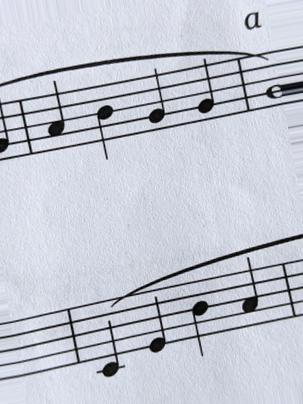note: (93, 298, 132, 380), (92, 84, 119, 167), (188, 57, 220, 126), (187, 280, 213, 364), (140, 66, 172, 134), (236, 258, 262, 334), (44, 81, 71, 153), (140, 291, 170, 353)
